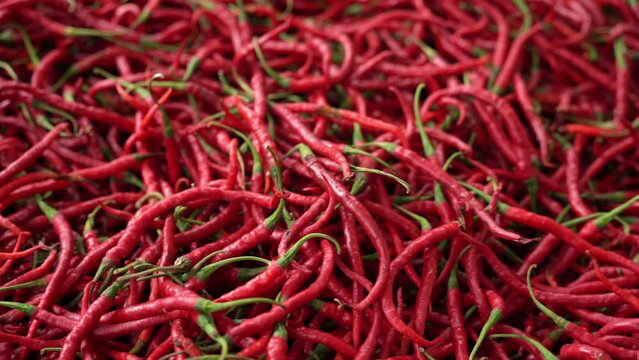Cabai: (132, 52, 536, 307)
